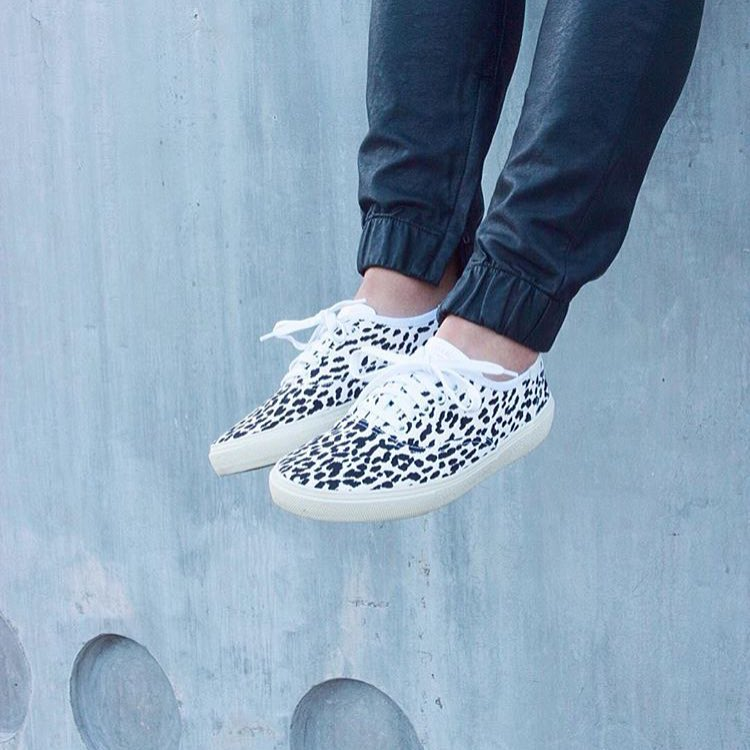sneaker: (240, 274, 590, 549), (198, 242, 482, 505)
